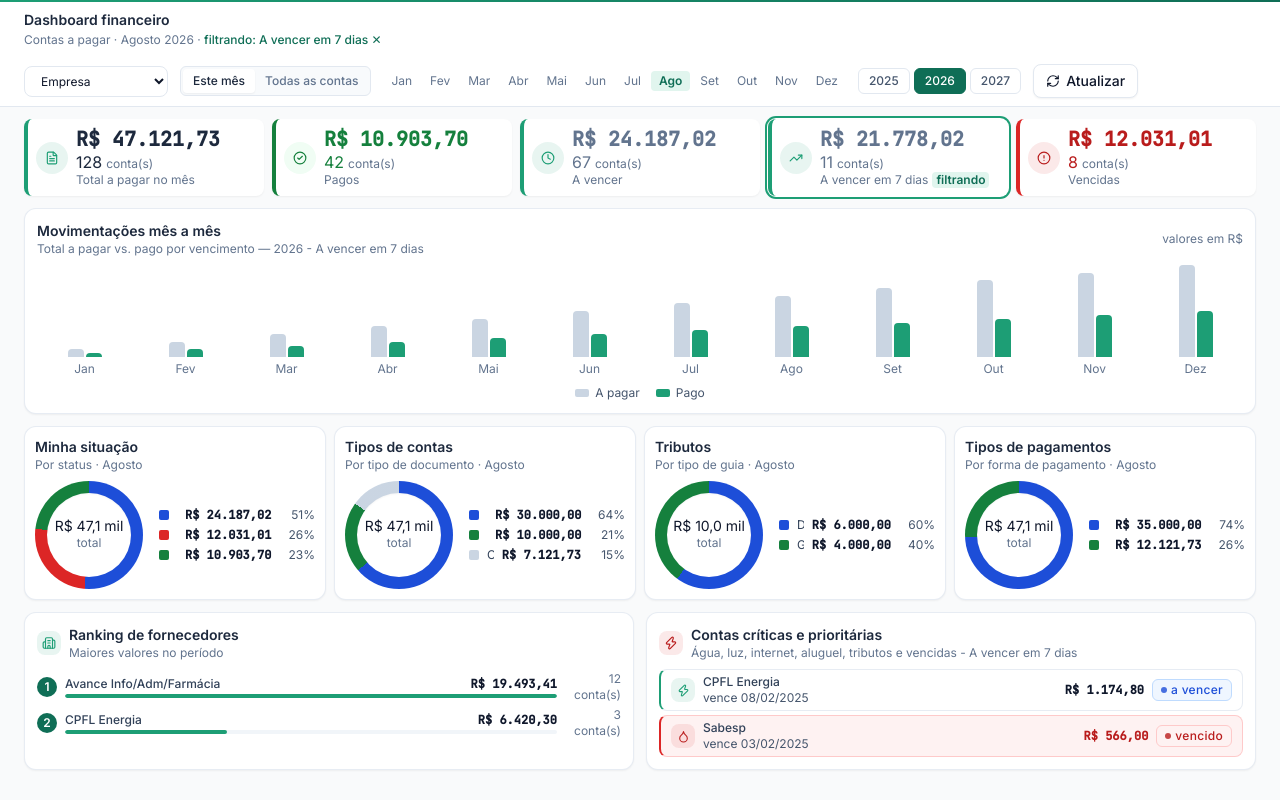
Test case: Dashboard › clicar noutro mês recarrega UMA vez, já sem o filtro de abertura
Expected: the text "Total a pagar no mês" is shown, [76,172,195,188]
Step 1. Click the button "Set" → coordinates (710, 81), box [692,71,727,91]
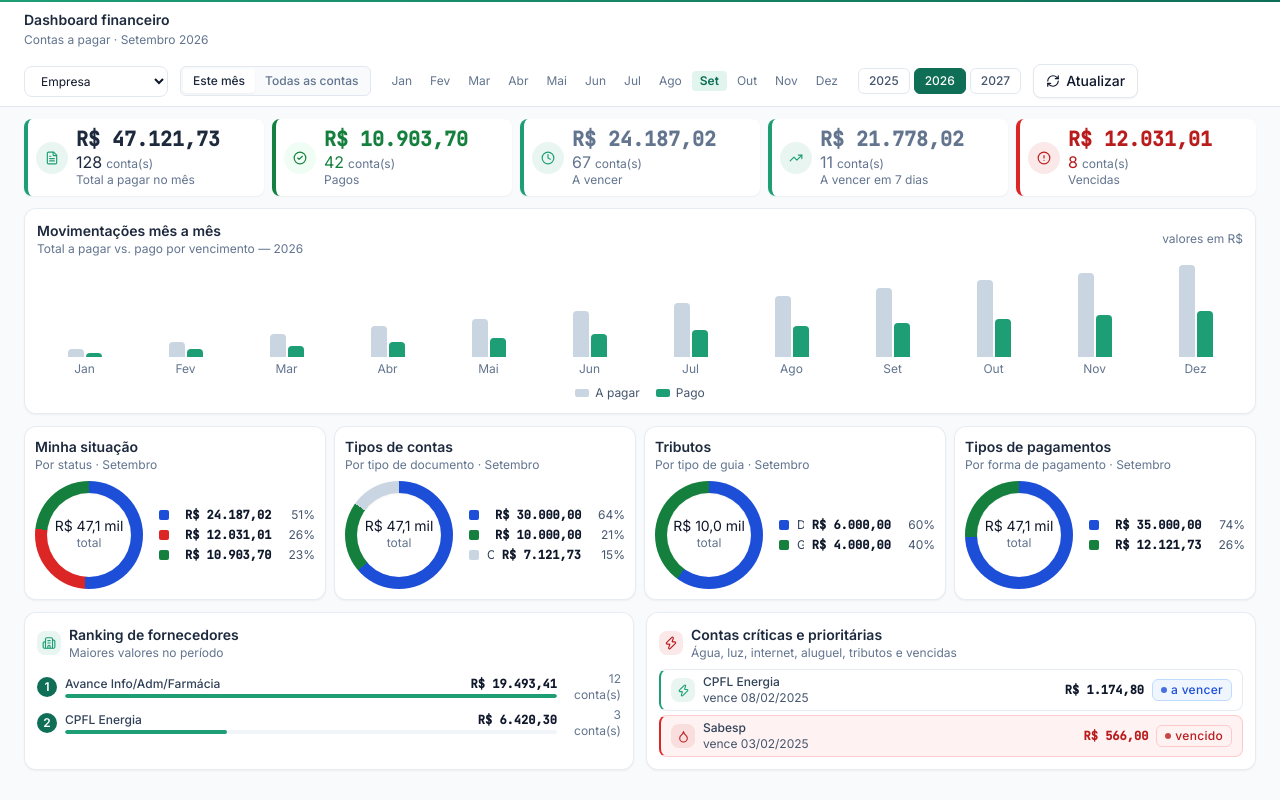
Now the button "filtrando:" is gone
